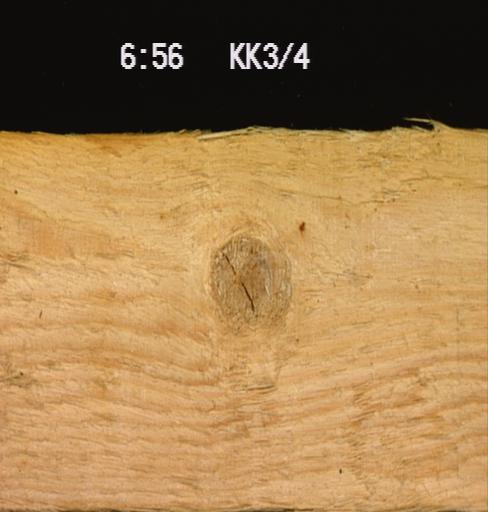sound_knot: (206, 232, 293, 334)
